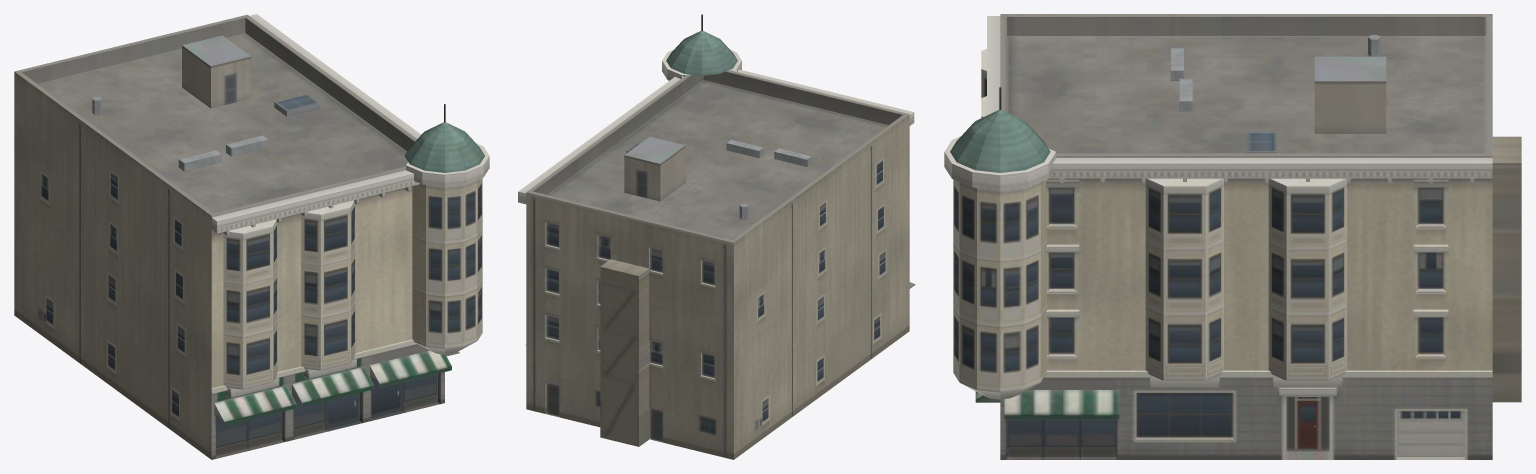
Rendered from sf_victorian_d.glb.
The picture shows the model from 3 angles, left to right: view 1: azimuth 30°, elevation 25°; view 2: azimuth 150°, elevation 25°; view 3: azimuth 270°, elevation 25°; orthographic projection. The views are drawn at different scales.
Parts seen in each view (by area): view 1: sf_victorian_d; view 2: sf_victorian_d; view 3: sf_victorian_d.
Boxes of the visible parts, x1,y1,x2,y2 form: sf_victorian_d: (14,14,489,459); sf_victorian_d: (518,14,915,459); sf_victorian_d: (944,14,1521,459).
Size of the model in its own units: 17.5 by 18.4 by 25.8.
Materials: 1 (1 with a texture image).
